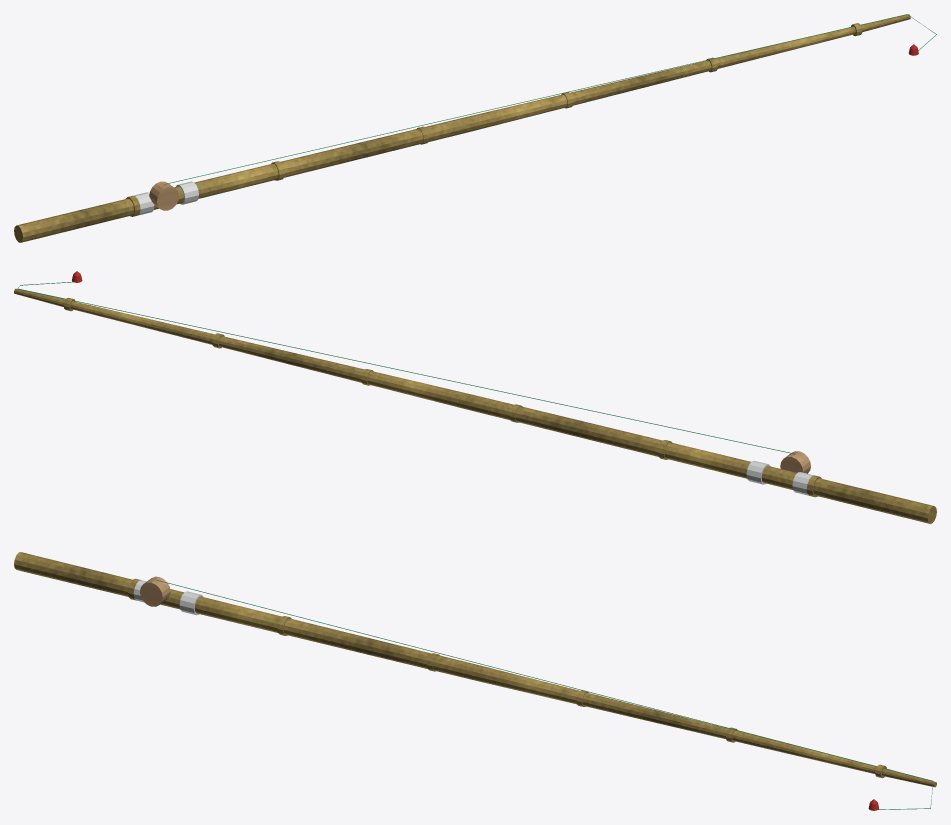
File: vara_pesca.glb
3 renders of one model, top to bottom at view 1: azimuth 30°, elevation 25°; view 2: azimuth 150°, elevation 25°; view 3: azimuth 330°, elevation 25°, orthographic. The views are drawn at different scales.
Visible parts, largest first — view 1: vara_pesca_bambu, vara_pesca_linha_verde, vara_pesca_madeira_crua, vara_pesca_fita_prata; view 2: vara_pesca_bambu, vara_pesca_linha_verde, vara_pesca_fita_prata; view 3: vara_pesca_bambu, vara_pesca_linha_verde, vara_pesca_madeira_crua.
Part boxes in pixels (bbox=[...]): vara_pesca_bambu: bbox=[14, 14, 910, 242]; vara_pesca_linha_verde: bbox=[164, 14, 936, 184]; vara_pesca_madeira_crua: bbox=[149, 181, 178, 210]; vara_pesca_fita_prata: bbox=[133, 181, 198, 215]; vara_pesca_bambu: bbox=[14, 288, 936, 523]; vara_pesca_linha_verde: bbox=[17, 281, 795, 454]; vara_pesca_fita_prata: bbox=[746, 460, 813, 495]; vara_pesca_bambu: bbox=[14, 552, 936, 787]; vara_pesca_linha_verde: bbox=[155, 579, 933, 809]; vara_pesca_madeira_crua: bbox=[140, 576, 170, 606].
Bounding box in the file's own units: 1.62 × 0.0514 × 0.124.
5 materials, 2 textured.
